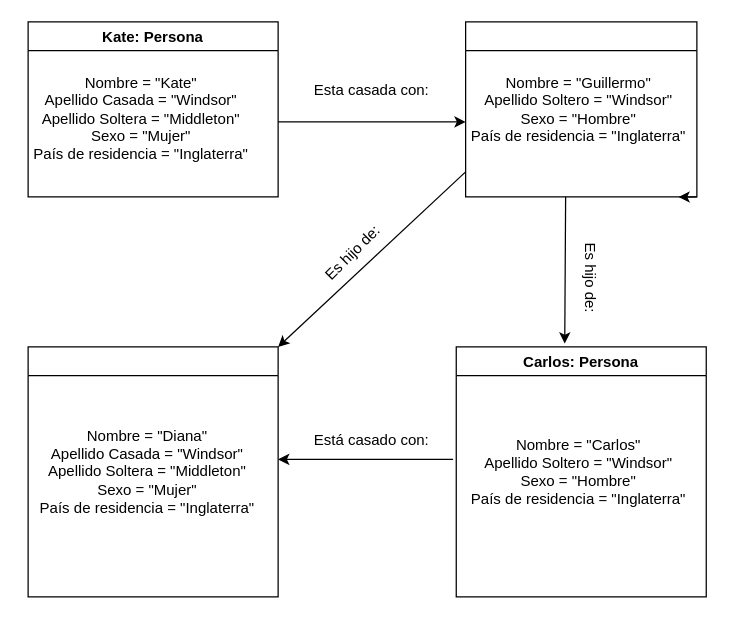
Some shapes in this 729 by 619 pixel diagram are drawn without their labels. Here are the shapes that lost their labels. From the top down, the box of each, then its label:
(464, 21, 697, 197): Guillermo: Persona
(27, 346, 278, 597): Diana: Persona
